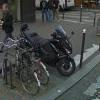Motorcycle: (19, 23, 78, 79)
